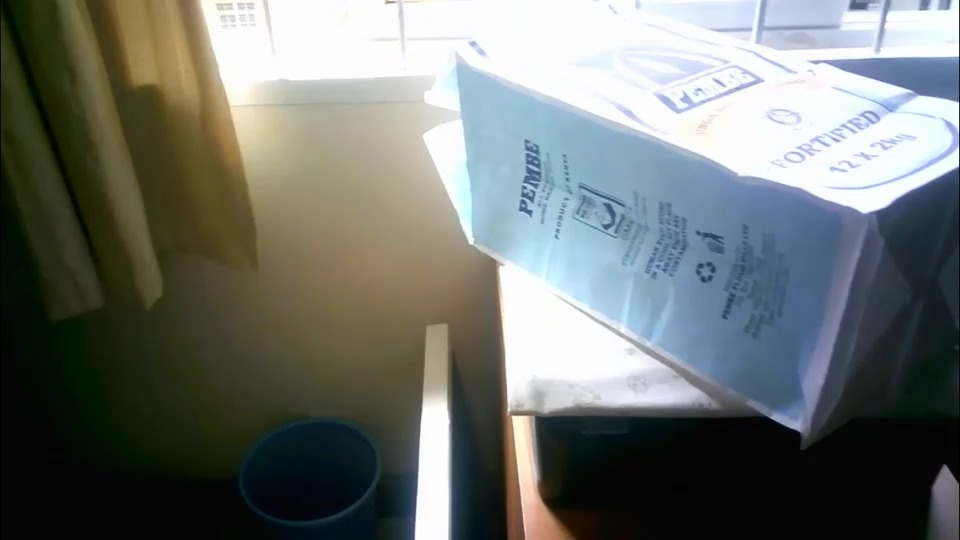wheat_flour_blue_label: (456, 6, 957, 437)
